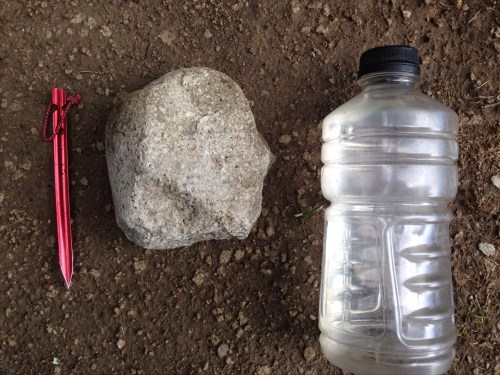bottle: (320, 46, 458, 374)
